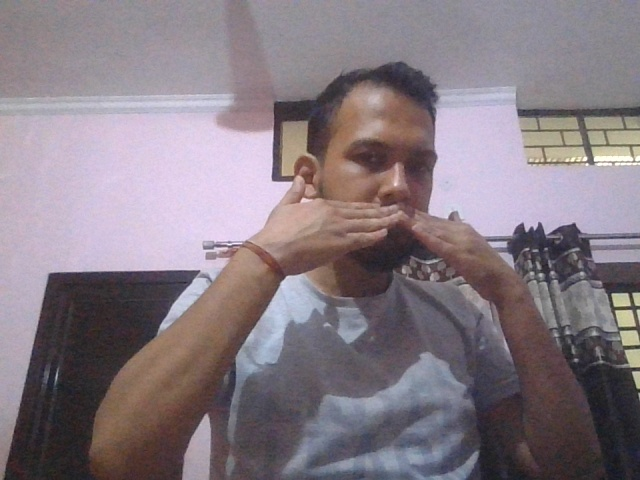thanks: (208, 175, 535, 308)
